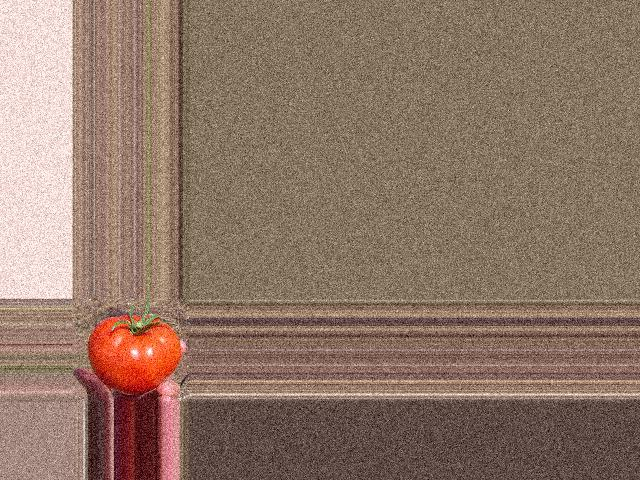tomato: (88, 315, 181, 394)
